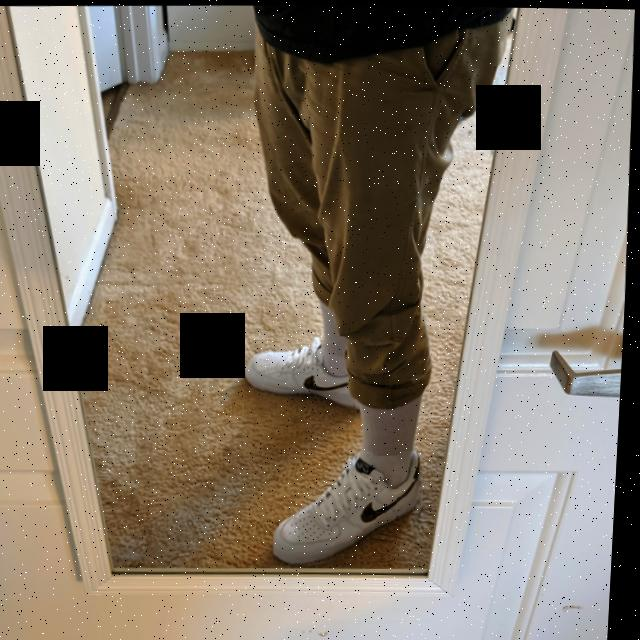shoe: (276, 447, 432, 567), (246, 333, 370, 411)
